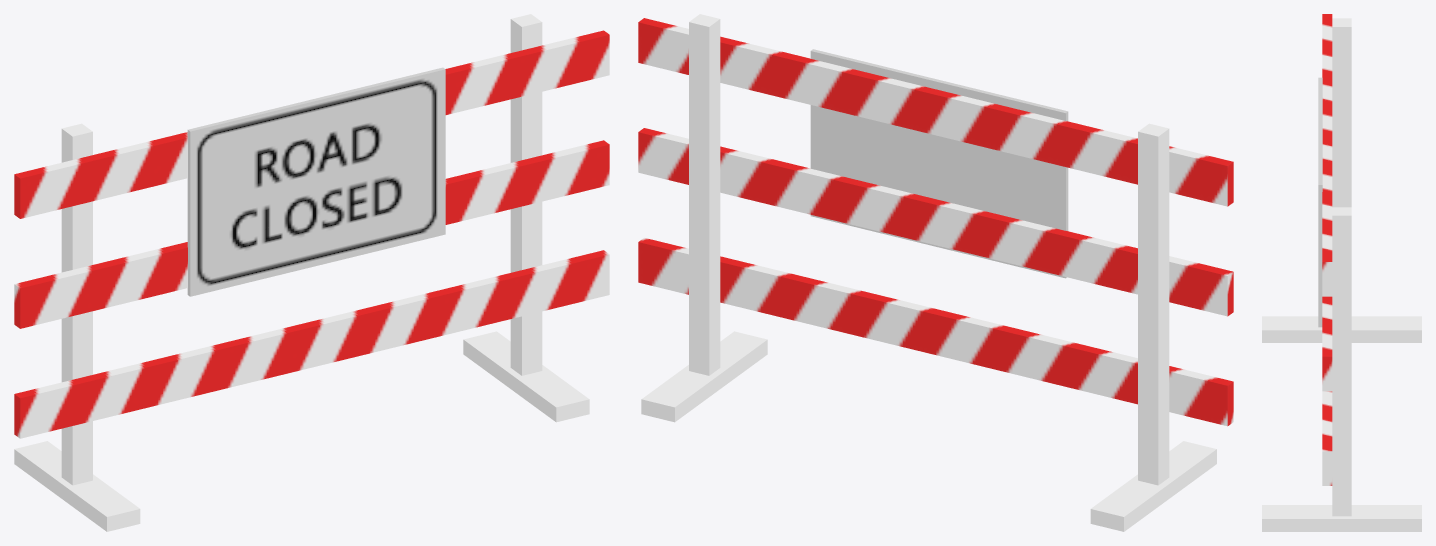
Rendered from RoadFence.glb.
3 renders of one model, left to right at view 1: azimuth 30°, elevation 25°; view 2: azimuth 150°, elevation 25°; view 3: azimuth 270°, elevation 25°, orthographic. The views are drawn at different scales.
Visible parts, largest first — view 1: road_fence; view 2: road_fence; view 3: road_fence.
Part boxes in pixels (x1,y1,x2,y2): road_fence: (14,14,609,531); road_fence: (638,14,1233,531); road_fence: (1262,14,1421,531).
Bounding box in the file's own units: 1.13 × 0.6687 × 0.3093.
Materials: 1 (1 with a texture image).
